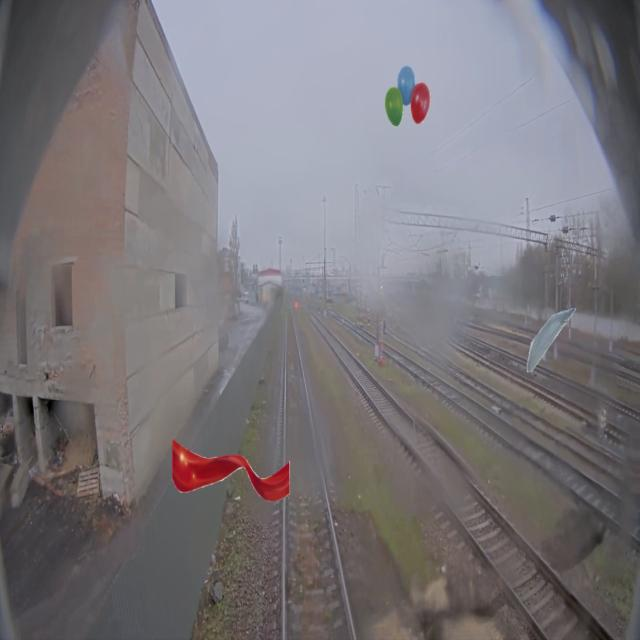balloon: (385, 64, 431, 128)
floating object: (169, 438, 292, 502), (526, 308, 576, 372)
